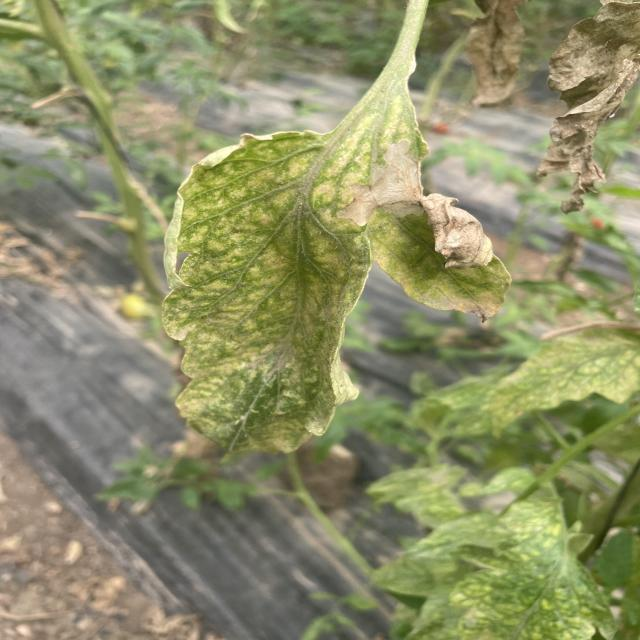Tuta absoluta: (330, 134, 450, 255)
